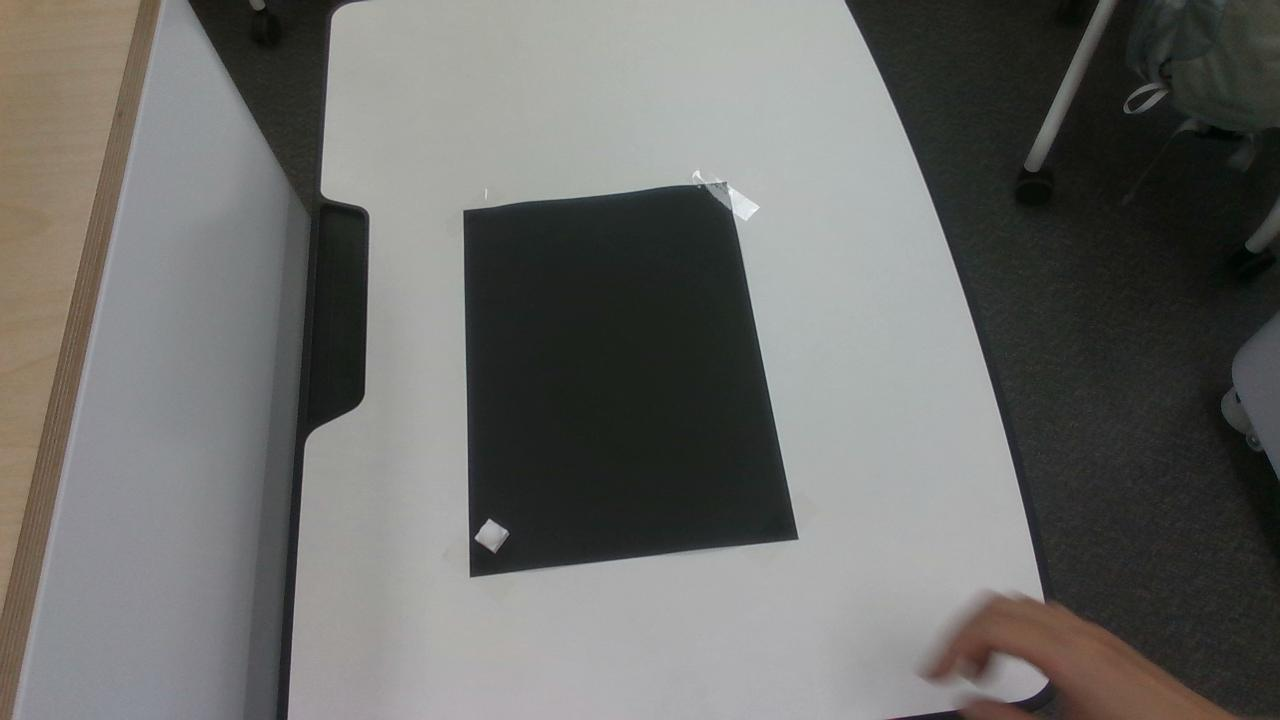cube: (475, 519, 508, 553)
